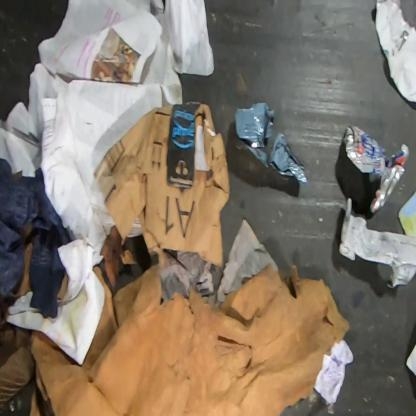cardboard: (94, 102, 230, 270), (0, 305, 36, 409)
metal: (343, 124, 410, 215)
soft_plastic: (234, 102, 309, 187)
